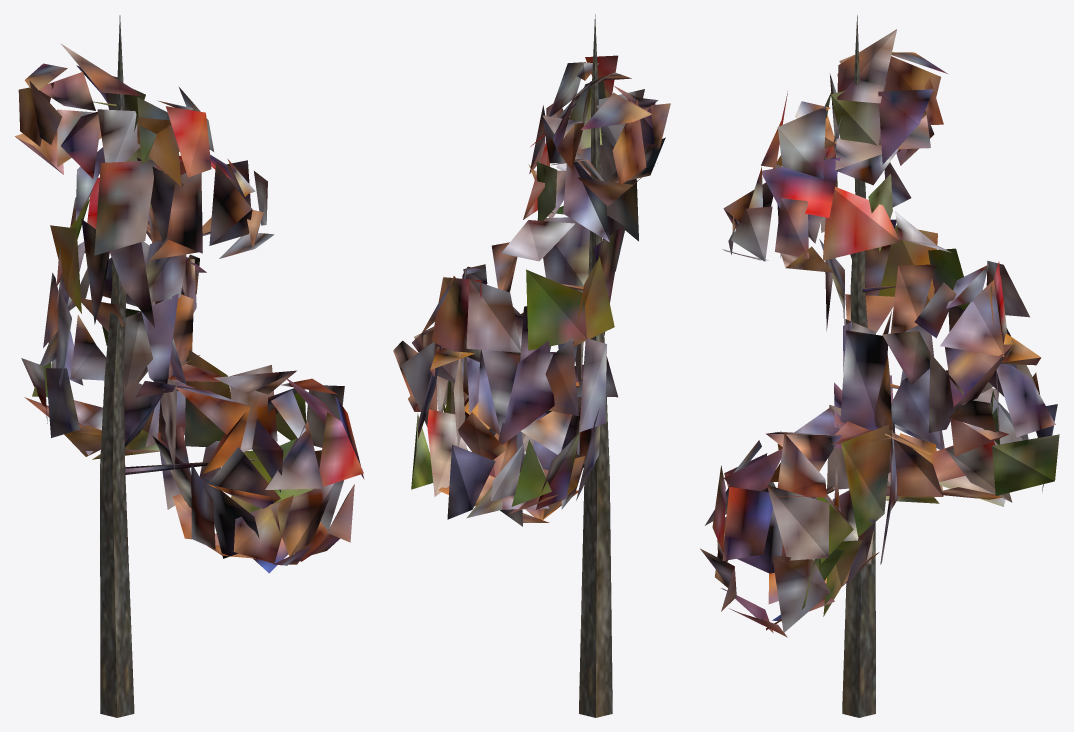
The model's file is Tree07.fbx.
3 views of the same model, side by side, from view 1: azimuth 30°, elevation 25°; view 2: azimuth 150°, elevation 25°; view 3: azimuth 270°, elevation 25° (orthographic).
Parts seen in each view (by area): view 1: Tree07; view 2: Tree07; view 3: Tree07.
Boxes of the visible parts, x1,y1,x2,y2 form: Tree07: (15, 15, 364, 717); Tree07: (393, 14, 670, 717); Tree07: (700, 15, 1059, 717).
Bounding box in the file's own units: 504 × 1251 × 586.
